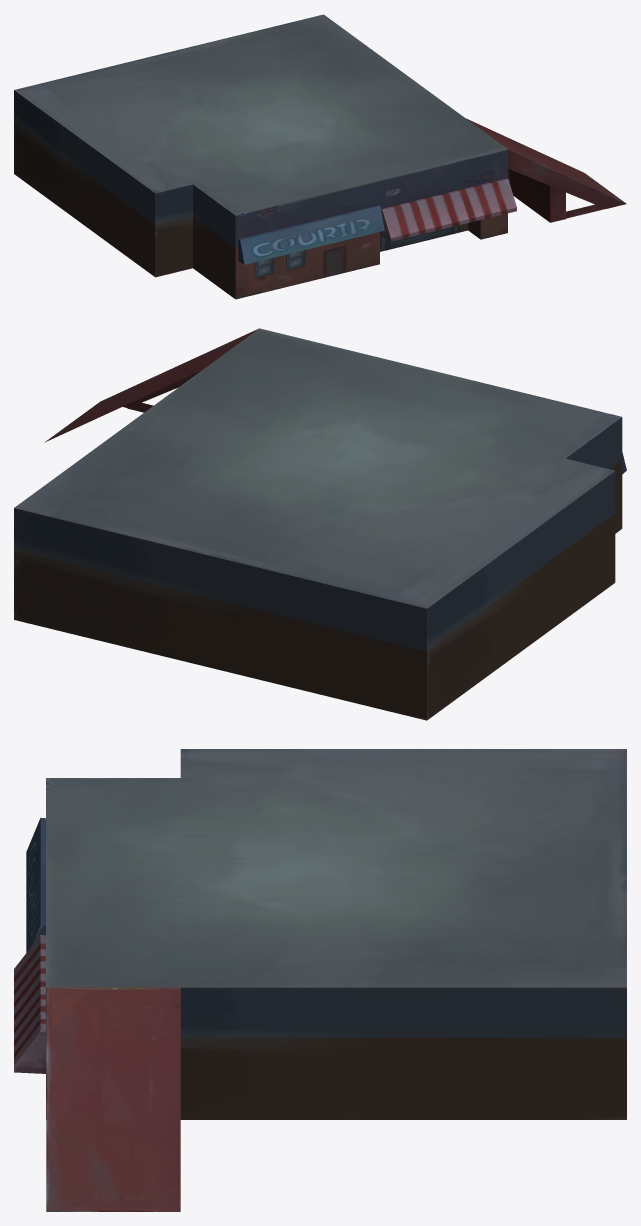
3 renders of one model, top to bottom at view 1: azimuth 30°, elevation 25°; view 2: azimuth 150°, elevation 25°; view 3: azimuth 270°, elevation 25°, orthographic. The views are drawn at different scales.
Parts seen in each view (by area): view 1: wj_fz06; view 2: wj_fz06; view 3: wj_fz06.
Boxes of the visible parts, bbox=[...] form: wj_fz06: bbox=[14, 14, 626, 299]; wj_fz06: bbox=[14, 328, 626, 720]; wj_fz06: bbox=[14, 749, 626, 1211].
Bounding box in the file's own units: 3649 × 2862 × 684.
